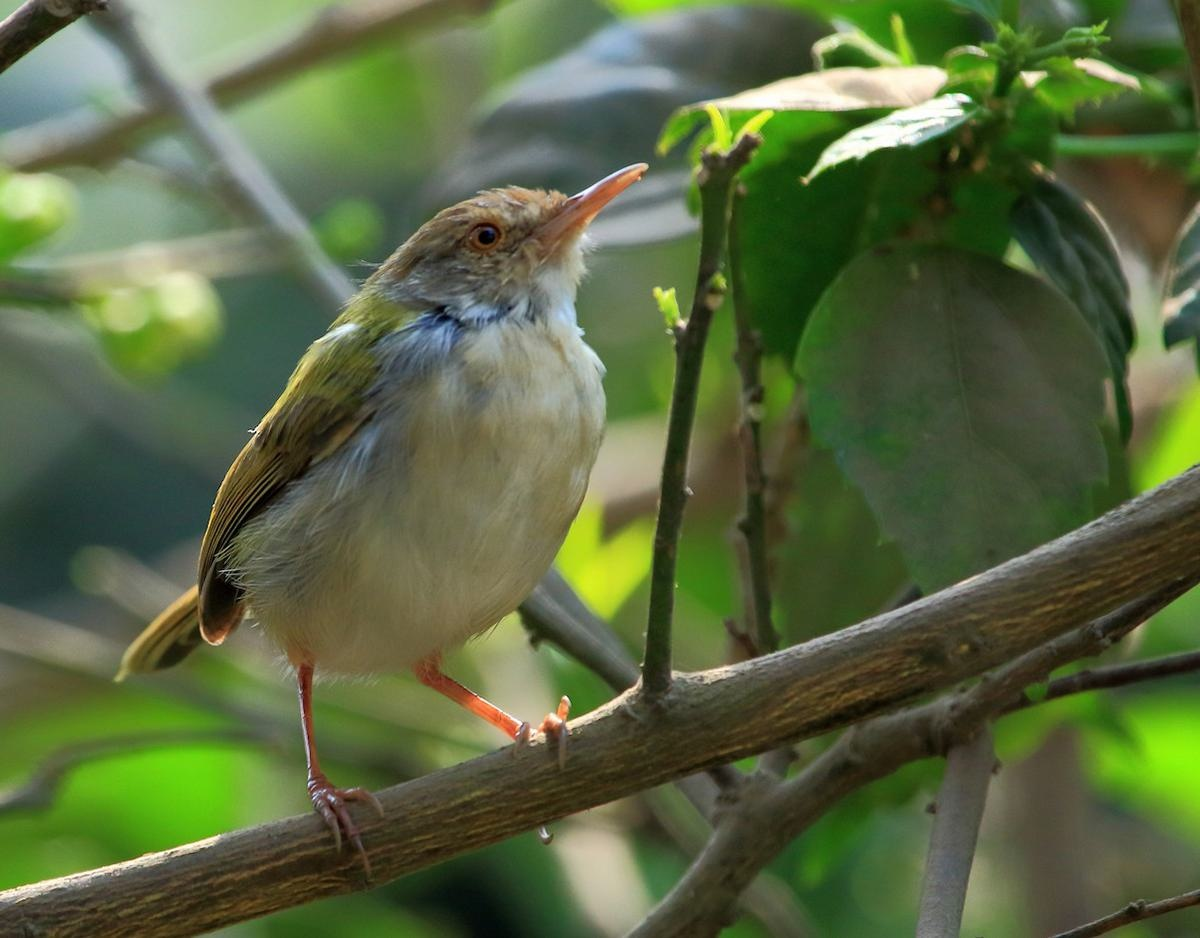tailorbird: (184, 141, 666, 835)
